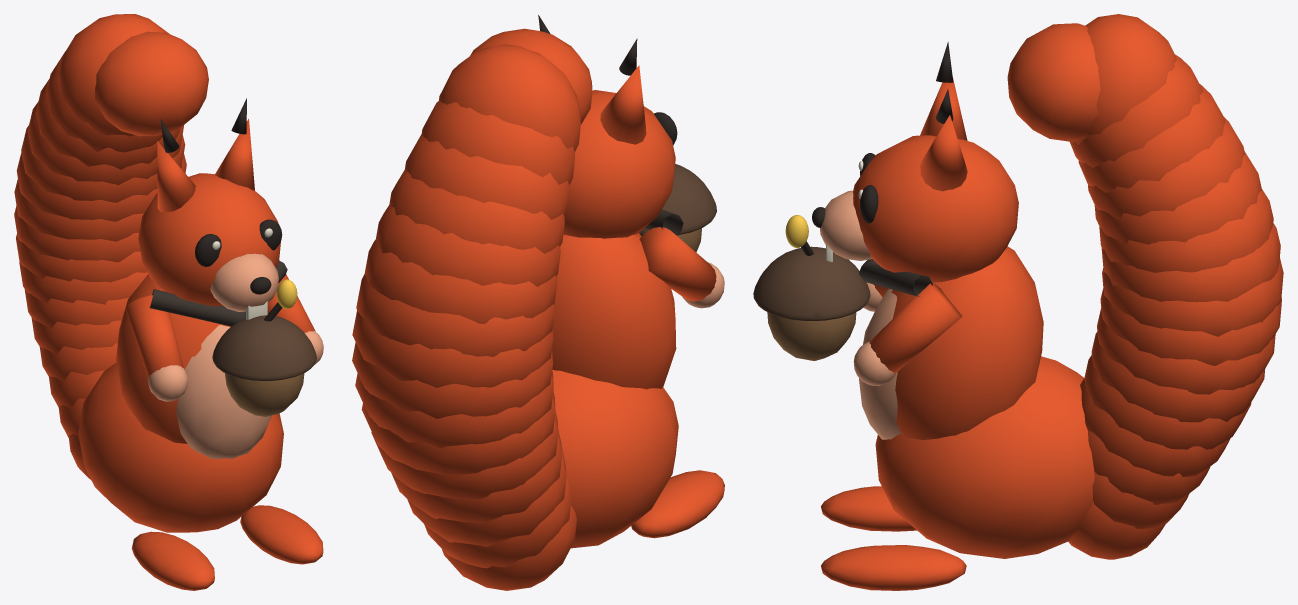
File: Squirrel.fbx
The picture shows the model from 3 angles, left to right: view 1: azimuth 30°, elevation 25°; view 2: azimuth 150°, elevation 25°; view 3: azimuth 270°, elevation 25°; orthographic projection. The views are drawn at different scales.
Parts seen in each view (by area): view 1: Squirrel; view 2: Squirrel; view 3: Squirrel.
Boxes of the visible parts, x1,y1,x2,y2 form: Squirrel: (14, 14, 323, 590); Squirrel: (352, 15, 724, 590); Squirrel: (753, 14, 1283, 590).
Size of the model in its own units: 0.3855 by 1 by 0.9065.
